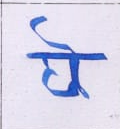e_matra: (28, 14, 82, 53)
